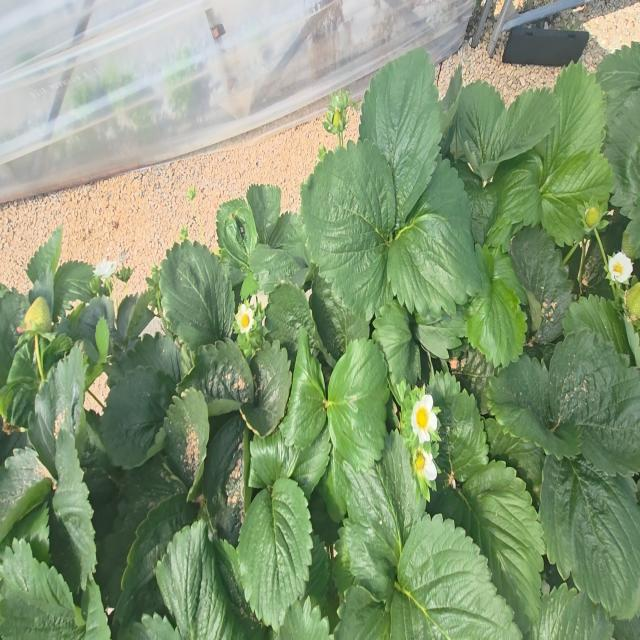Flowers: (411, 395, 437, 442), (413, 447, 437, 482), (609, 252, 633, 283), (235, 303, 254, 332), (93, 260, 117, 278)
Leaves: (301, 140, 395, 318), (440, 461, 544, 620), (391, 514, 522, 639), (540, 455, 640, 618), (81, 445, 180, 607), (387, 161, 482, 318), (359, 50, 442, 227), (341, 430, 425, 600), (550, 330, 640, 475), (237, 478, 312, 629), (115, 494, 197, 628), (156, 520, 246, 639), (488, 356, 580, 458), (538, 62, 606, 193), (426, 372, 489, 508), (0, 540, 84, 639), (160, 240, 235, 350), (327, 339, 389, 469), (97, 366, 175, 469), (49, 429, 97, 594), (465, 247, 528, 367), (511, 228, 573, 344), (29, 344, 86, 470), (541, 149, 614, 245), (280, 329, 326, 450), (487, 148, 542, 246), (455, 81, 509, 180), (201, 419, 243, 544), (309, 277, 369, 360), (185, 339, 254, 408), (241, 341, 291, 436), (164, 388, 209, 493), (530, 583, 614, 639), (496, 88, 559, 161), (265, 282, 322, 360), (373, 301, 421, 385), (0, 447, 49, 523), (455, 161, 496, 244), (249, 428, 299, 488), (0, 284, 29, 387), (335, 585, 390, 639), (290, 425, 330, 499), (250, 244, 307, 293), (276, 596, 334, 639), (266, 212, 307, 269), (53, 261, 94, 315), (221, 205, 257, 266), (27, 227, 62, 284), (247, 185, 281, 243)
Strawberries: (322, 89, 351, 145), (19, 297, 51, 331), (584, 206, 601, 228)
